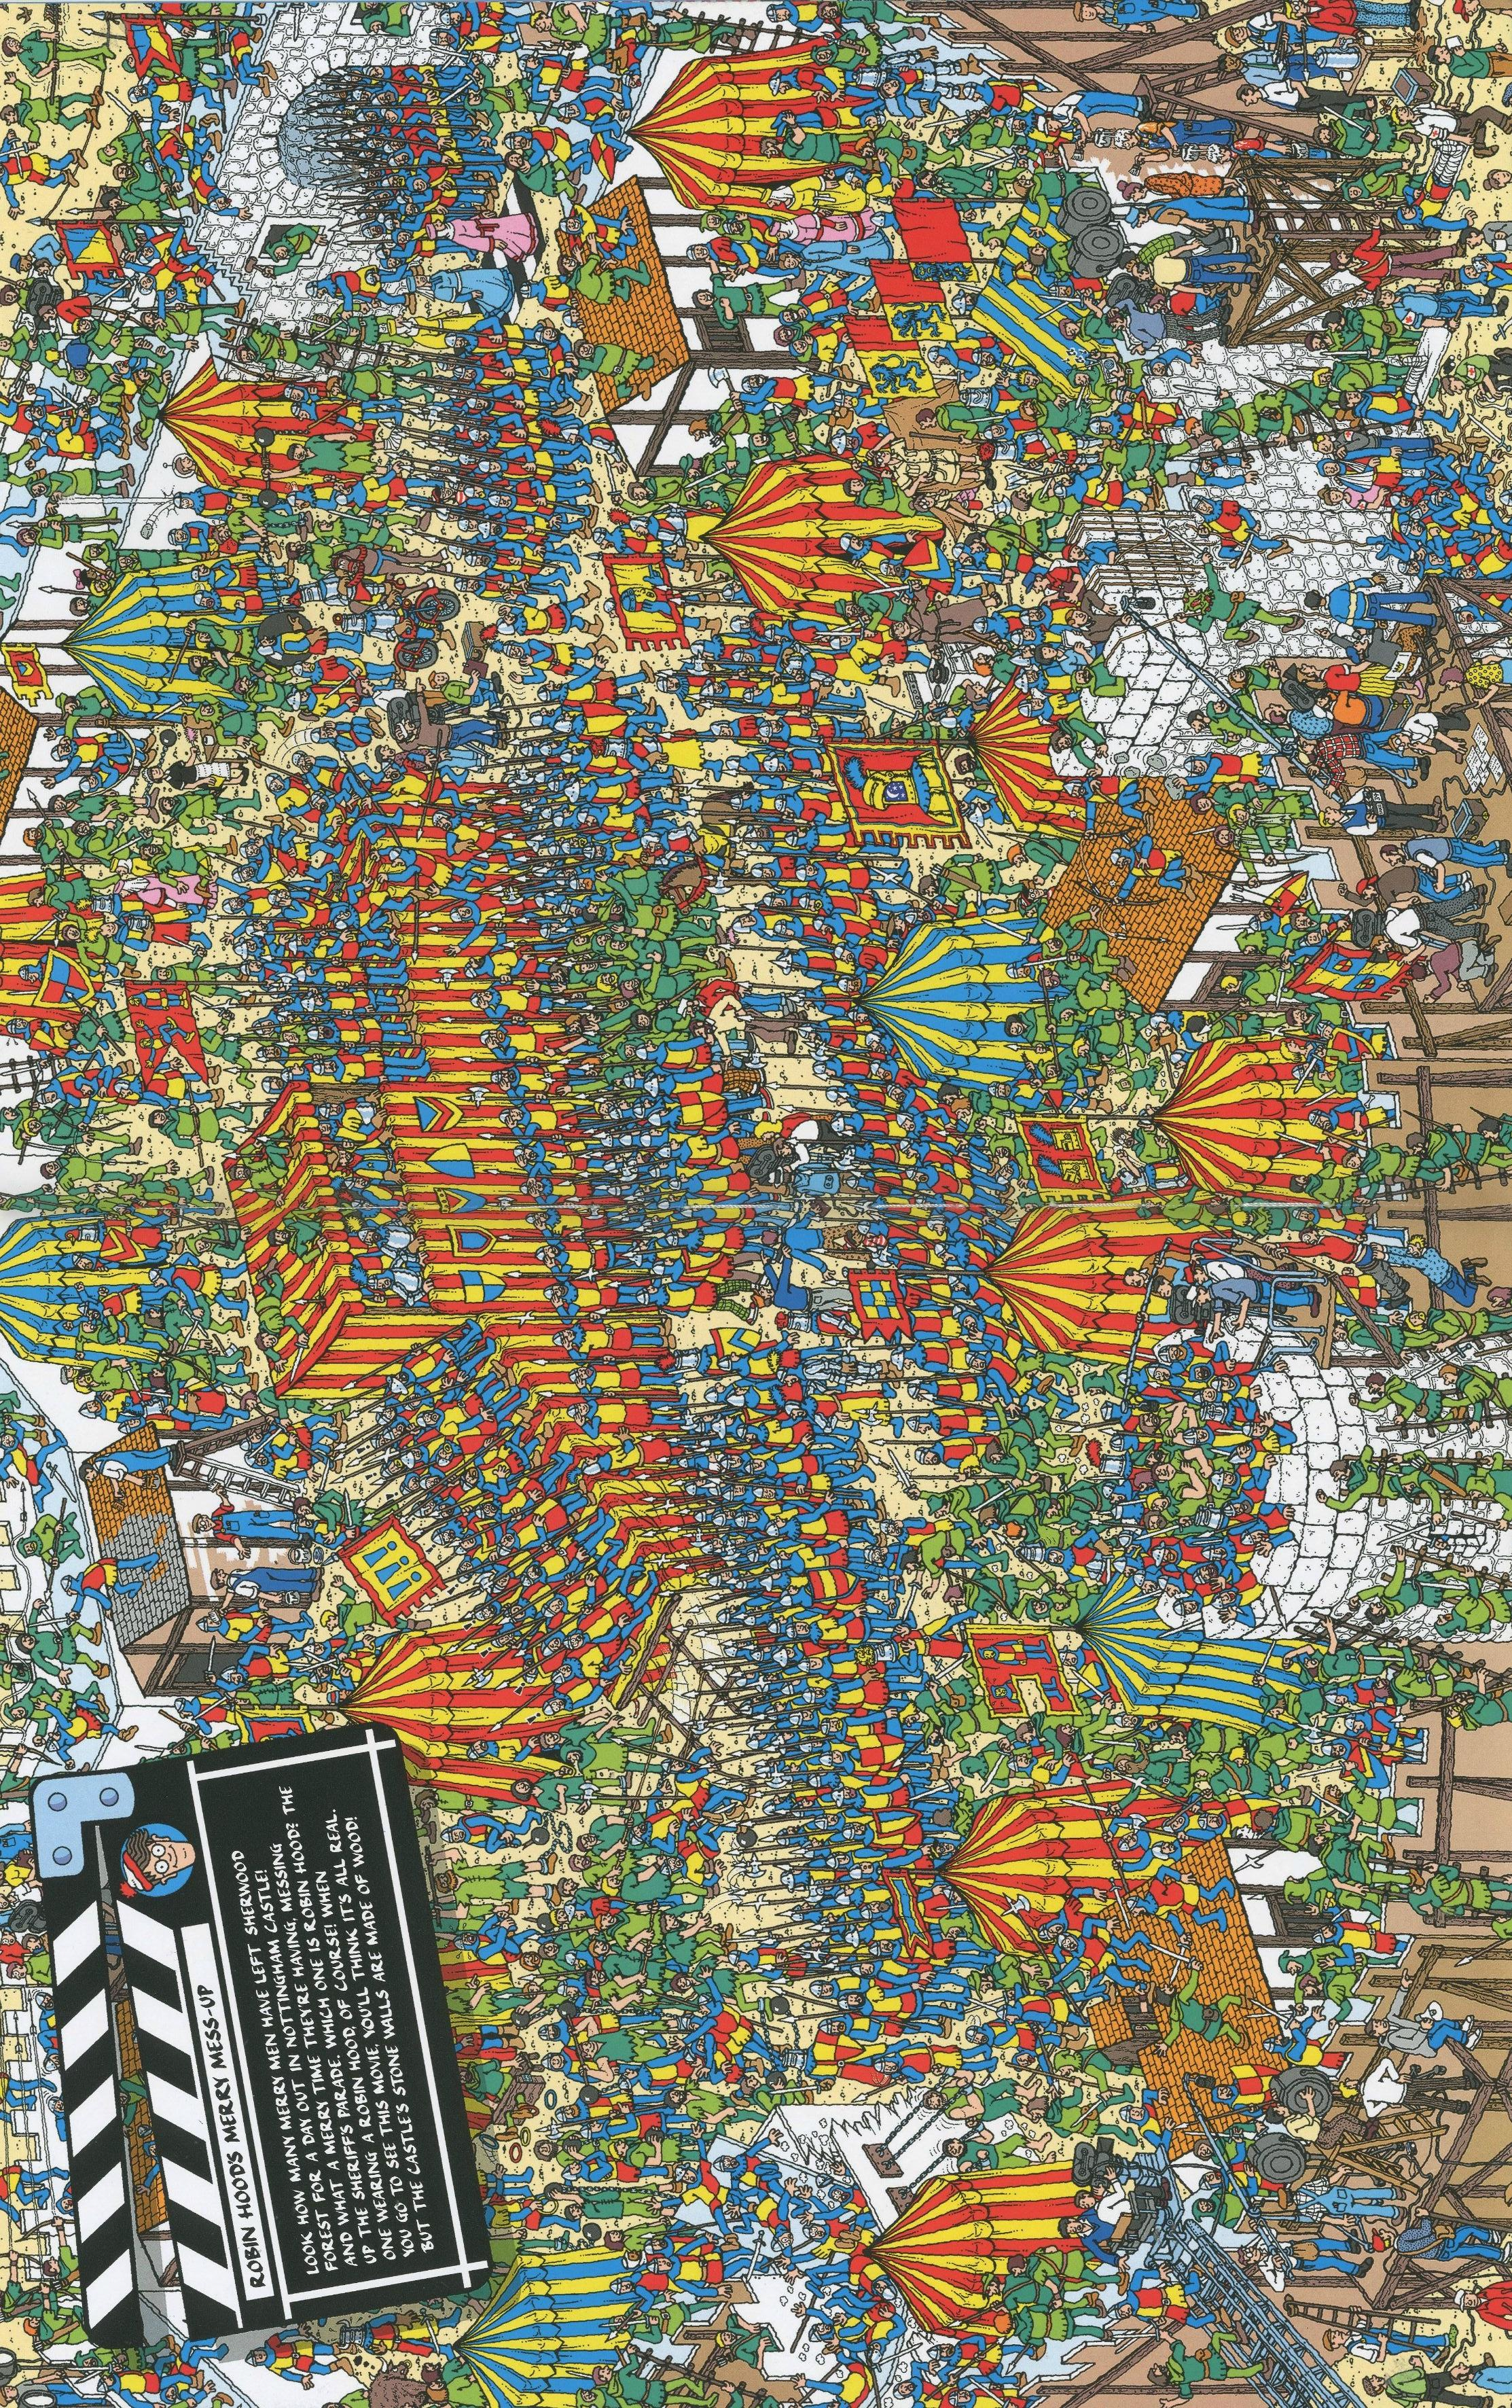waldos: (1019, 885, 1056, 911)
